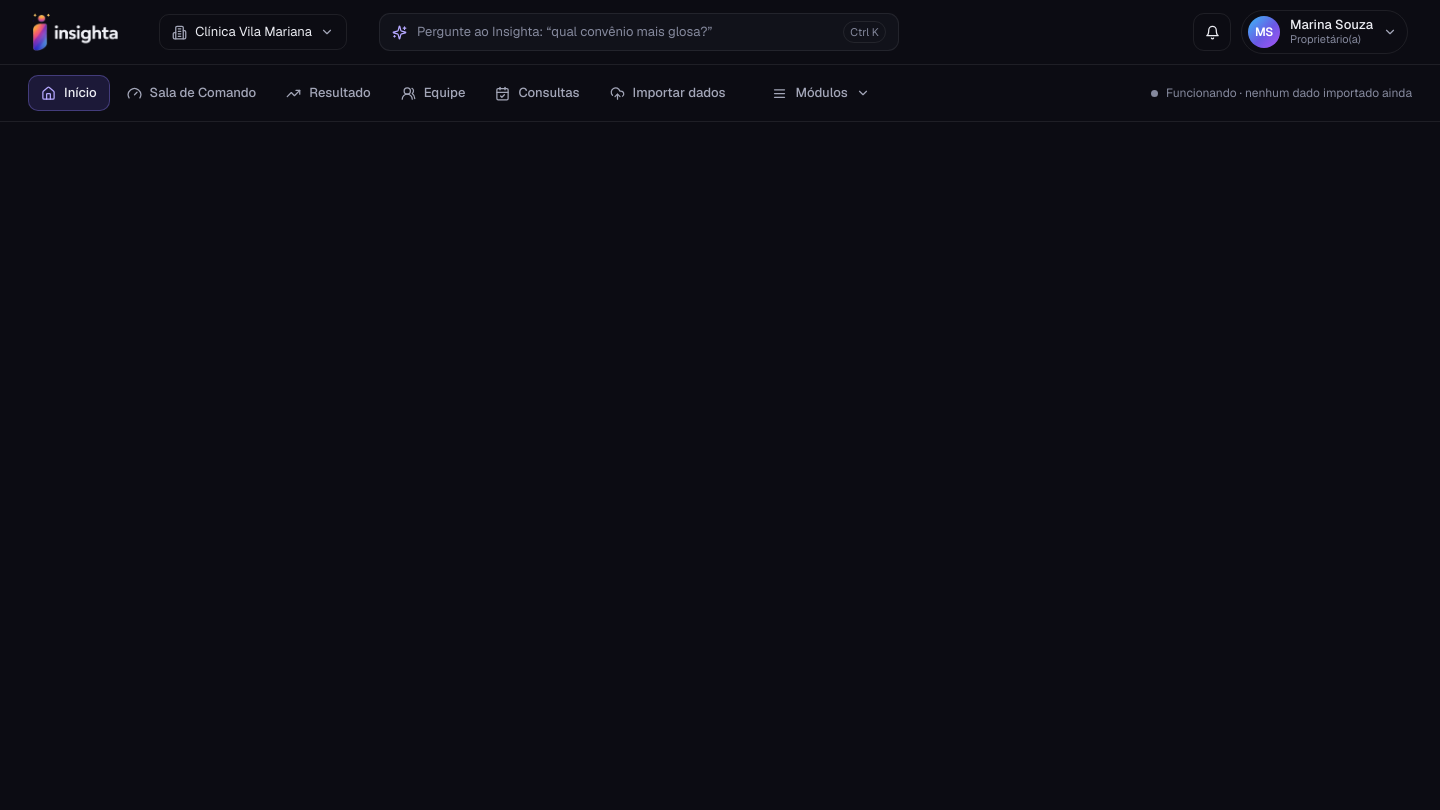
it: TopBar › gestor: sem Painel/Pacientes na barra, módulos enxutos e Consolidado só para rede
Expected: the link "Equipe" is shown, [401,84,465,101]
Expected: the link "Pacientes" is not shown
Click the button "Módulos" at (821, 93), box [760,75,883,111]
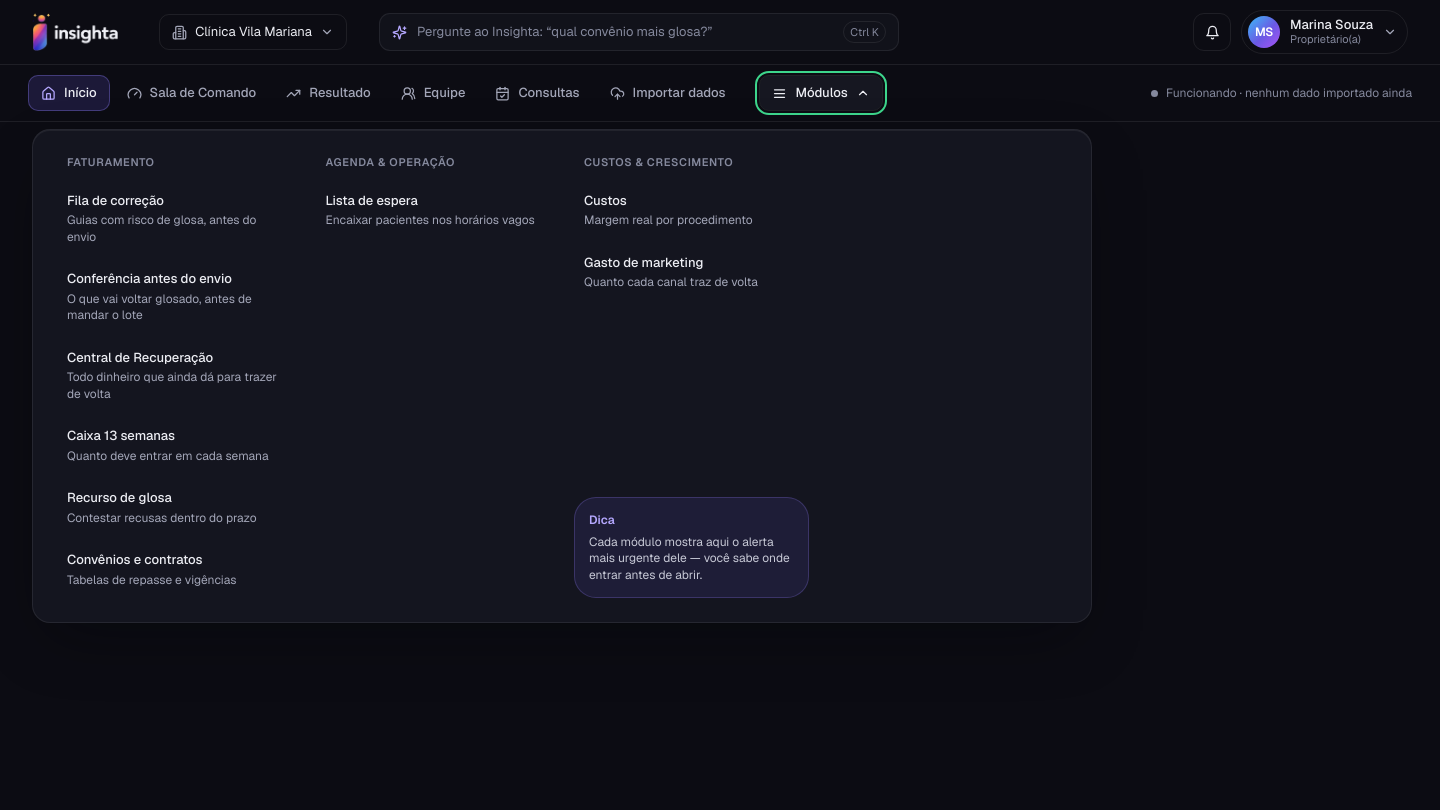
Expected: the link "Importar dados" is shown, [610,84,725,101]
Result: the link "Fila de correção Guias com risco de glosa, antes do envio" is shown at [67,192,256,244]
